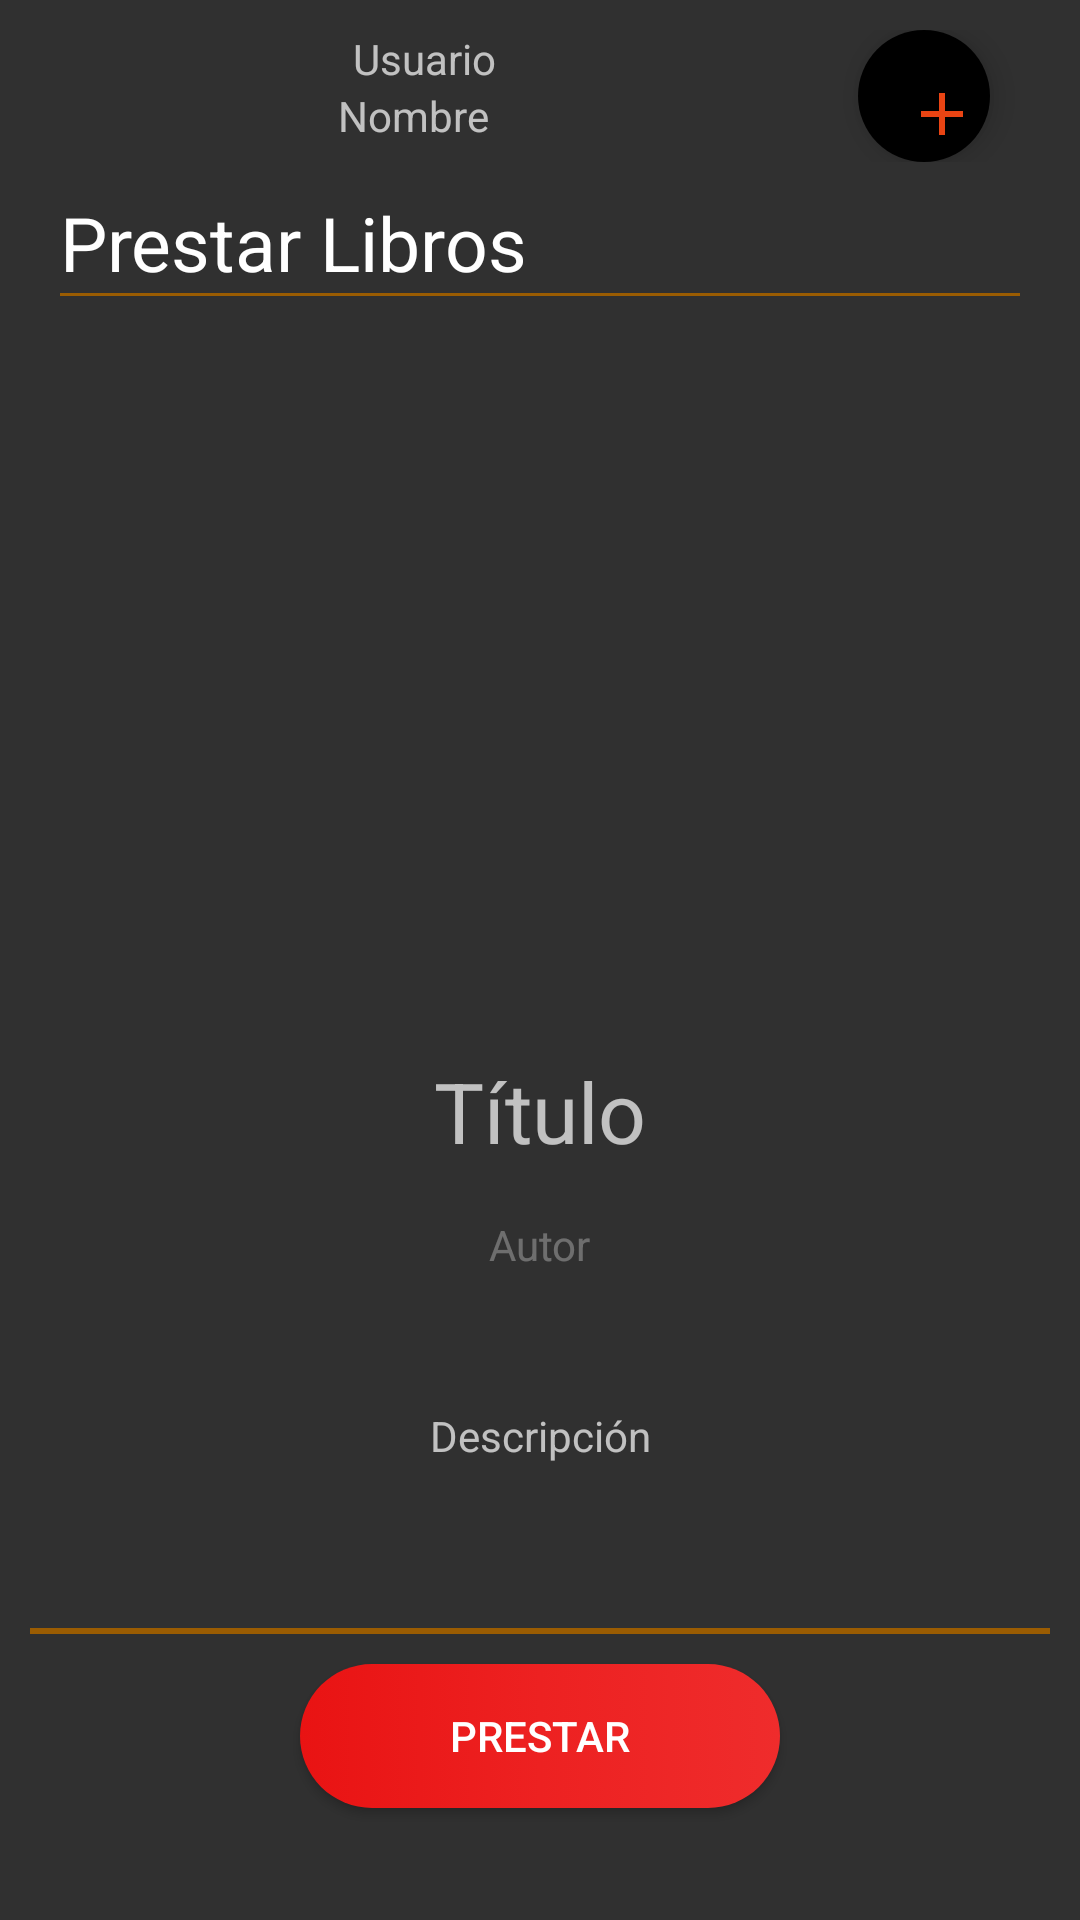

Icon click points for this 1080px x 1920px phone screenshot, format (x=x, y=y):
mas: (x=924, y=96)
